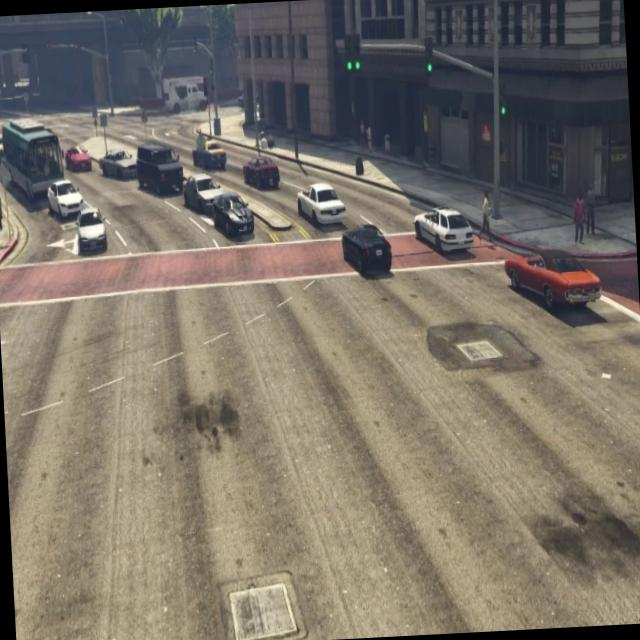Green-Signal: (337, 24, 373, 103), (492, 70, 516, 134), (419, 32, 442, 92)
